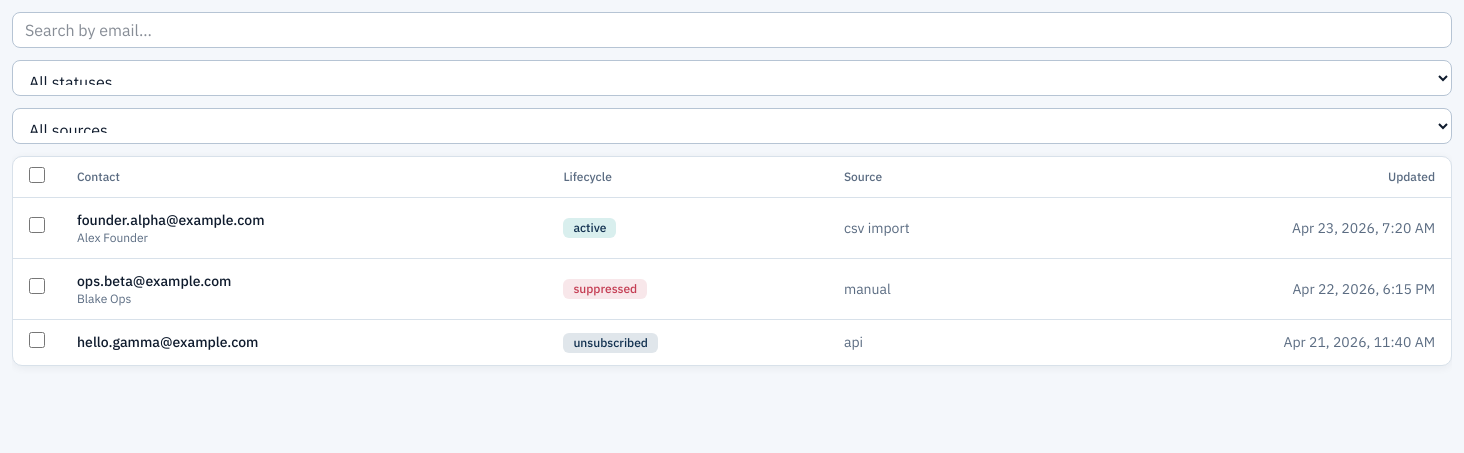
Test: ContactsTable › select all selects all visible contacts
What coordinates should you click on to do the following:
click the checkbox named "select all visible"
I would click on:
 (37, 175)
Its box is [29,167,45,183].
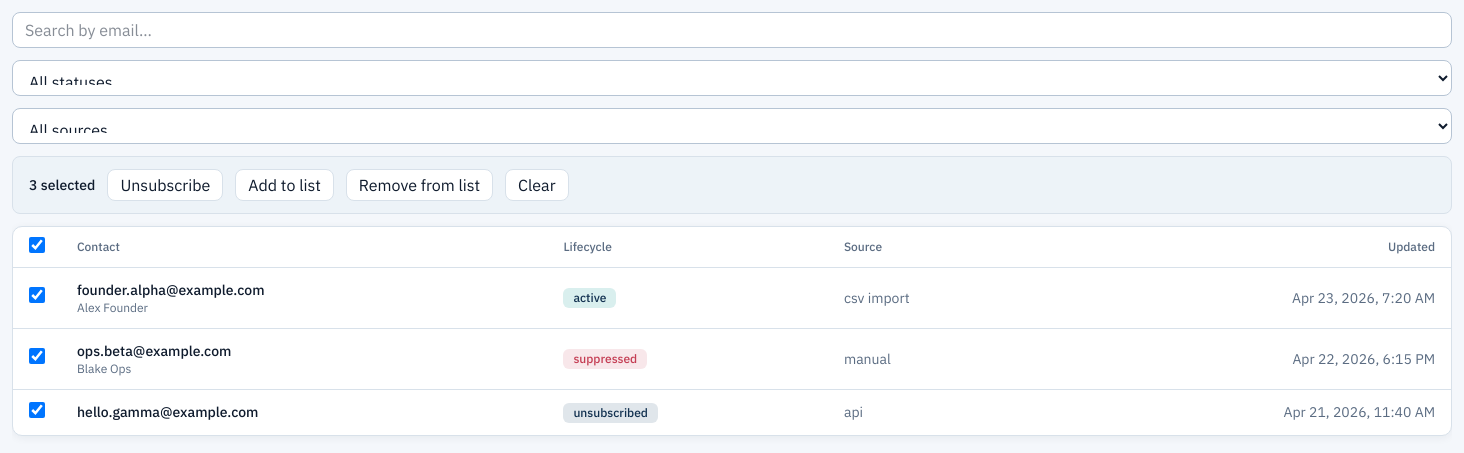
Now the text "3 selected" is shown, box [29,175,95,195]
